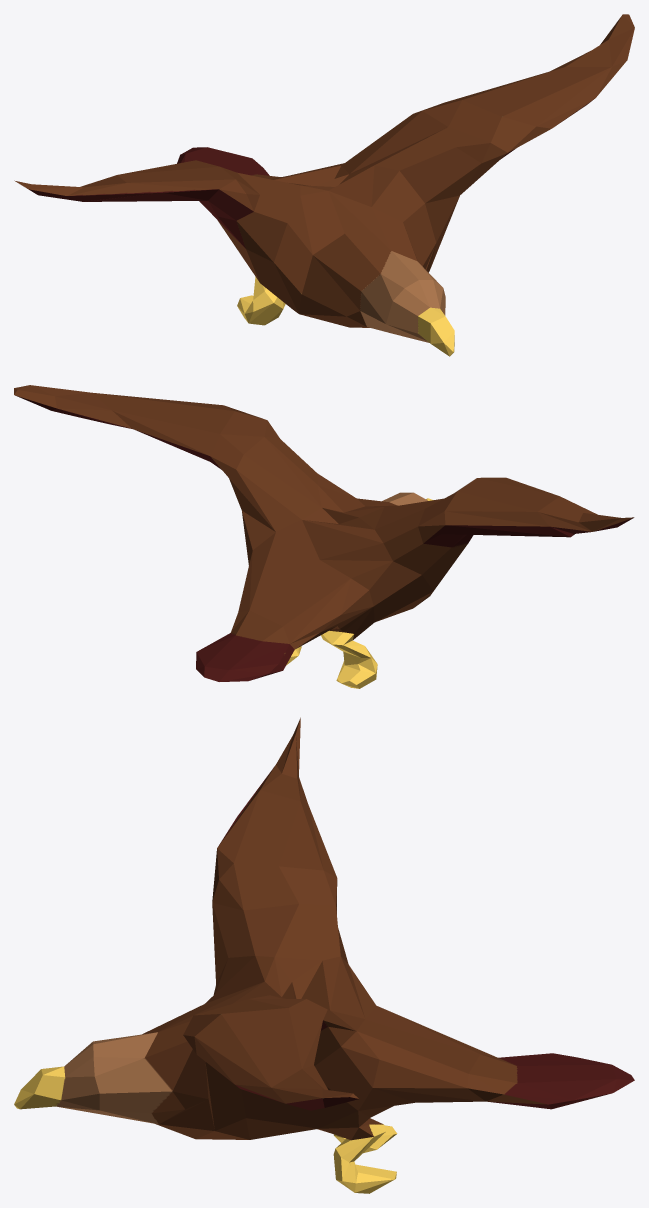
The model's file is aguili_000045.obj.
3 renders of one model, top to bottom at view 1: azimuth 30°, elevation 25°; view 2: azimuth 150°, elevation 25°; view 3: azimuth 270°, elevation 25°, orthographic. The views are drawn at different scales.
Parts seen in each view (by area): view 1: aguila.001_Cube.001; view 2: aguila.001_Cube.001; view 3: aguila.001_Cube.001.
Boxes of the visible parts, <box> form: aguila.001_Cube.001: <box>14,14,634,356</box>; aguila.001_Cube.001: <box>14,385,634,688</box>; aguila.001_Cube.001: <box>14,717,634,1193</box>.
Size of the model in its own units: 80.81 by 27.4 by 56.5.
1 material, 1 textured.
